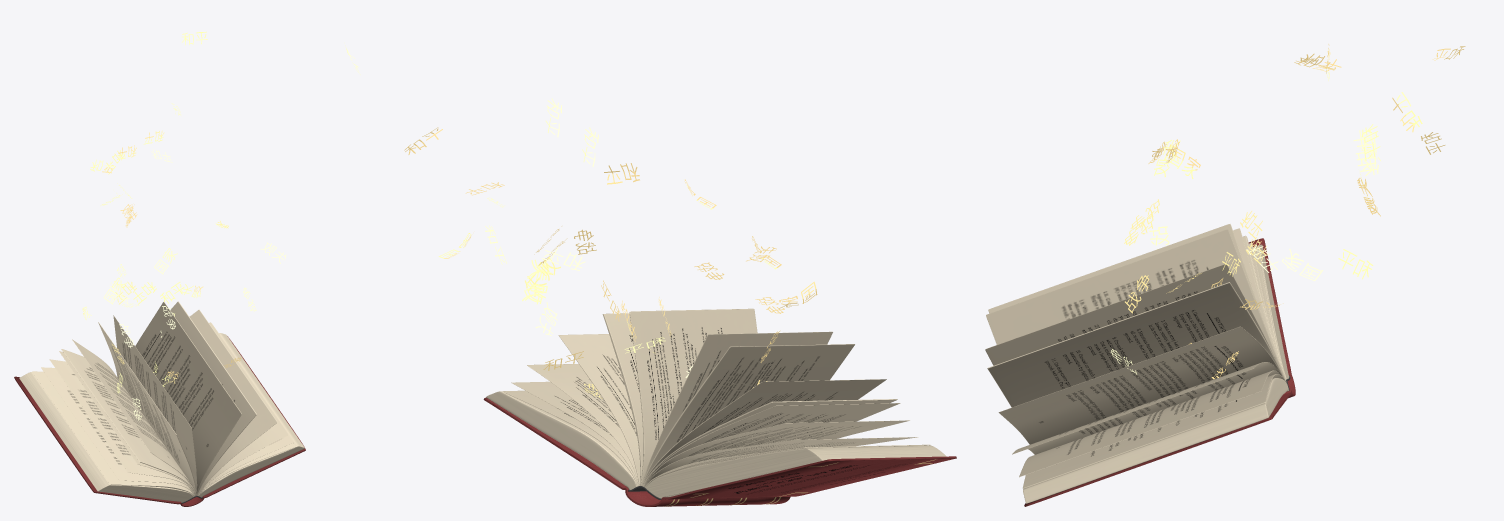
The picture shows the model from 3 angles, left to right: view 1: azimuth 30°, elevation 25°; view 2: azimuth 150°, elevation 25°; view 3: azimuth 270°, elevation 25°; orthographic projection. The views are drawn at different scales.
Visible parts, largest first — view 1: page_10_2, page_1_1, page_12_4, page_9_16, page_8_15, page_6_13, page_7_14, page_11_3, page_4_11, page_3_10, page_2_9, page_16_8 (+5 smaller); view 2: page_10_2, cover_17, page_8_15, page_1_1, page_7_14, page_12_4, page_9_16, page_16_8, page_5_12, page_4_11, page_13_5, page_11_3 (+5 smaller); view 3: page_11_3, page_12_4, page_9_16, page_10_2, page_16_8, page_14_6, page_15_7, page_13_5, cover_17, page_8_15, page_1_1, page_7_14.
Part boxes in pixels (box(x1,y1,x2,y2)): page_10_2: box(135, 302, 241, 494); page_1_1: box(19, 372, 193, 502); page_12_4: box(189, 309, 277, 495); page_9_16: box(113, 315, 197, 494); page_8_15: box(98, 322, 196, 495); page_6_13: box(61, 349, 195, 495); page_7_14: box(72, 339, 195, 495); page_11_3: box(170, 301, 256, 495); page_4_11: box(49, 359, 194, 495); page_3_10: box(41, 367, 194, 495); page_2_9: box(32, 371, 194, 496); page_16_8: box(199, 333, 304, 497); page_10_2: box(629, 308, 757, 485); cover_17: box(483, 397, 956, 506); page_8_15: box(641, 344, 854, 485); page_1_1: box(645, 445, 946, 498); page_7_14: box(642, 379, 886, 486); page_12_4: box(558, 334, 640, 485); page_9_16: box(641, 331, 832, 485); page_16_8: box(486, 390, 636, 489); page_5_12: box(643, 403, 900, 486); page_4_11: box(643, 420, 909, 486); page_13_5: box(527, 364, 638, 485); page_11_3: box(602, 313, 643, 485); page_11_3: box(987, 282, 1285, 407); page_12_4: box(998, 326, 1285, 444); page_9_16: box(986, 229, 1285, 380); page_10_2: box(985, 264, 1281, 371); page_16_8: box(1023, 378, 1288, 503); page_14_6: box(1019, 370, 1282, 477); page_15_7: box(1023, 374, 1286, 488); page_13_5: box(1012, 362, 1283, 454); cover_17: box(1024, 238, 1295, 506); page_8_15: box(988, 224, 1285, 379); page_1_1: box(1253, 244, 1289, 379); page_7_14: box(1233, 228, 1284, 375).
Bounding box in the file's own units: 6.33 × 8.48 × 6.9.
40 materials, 39 textured.
